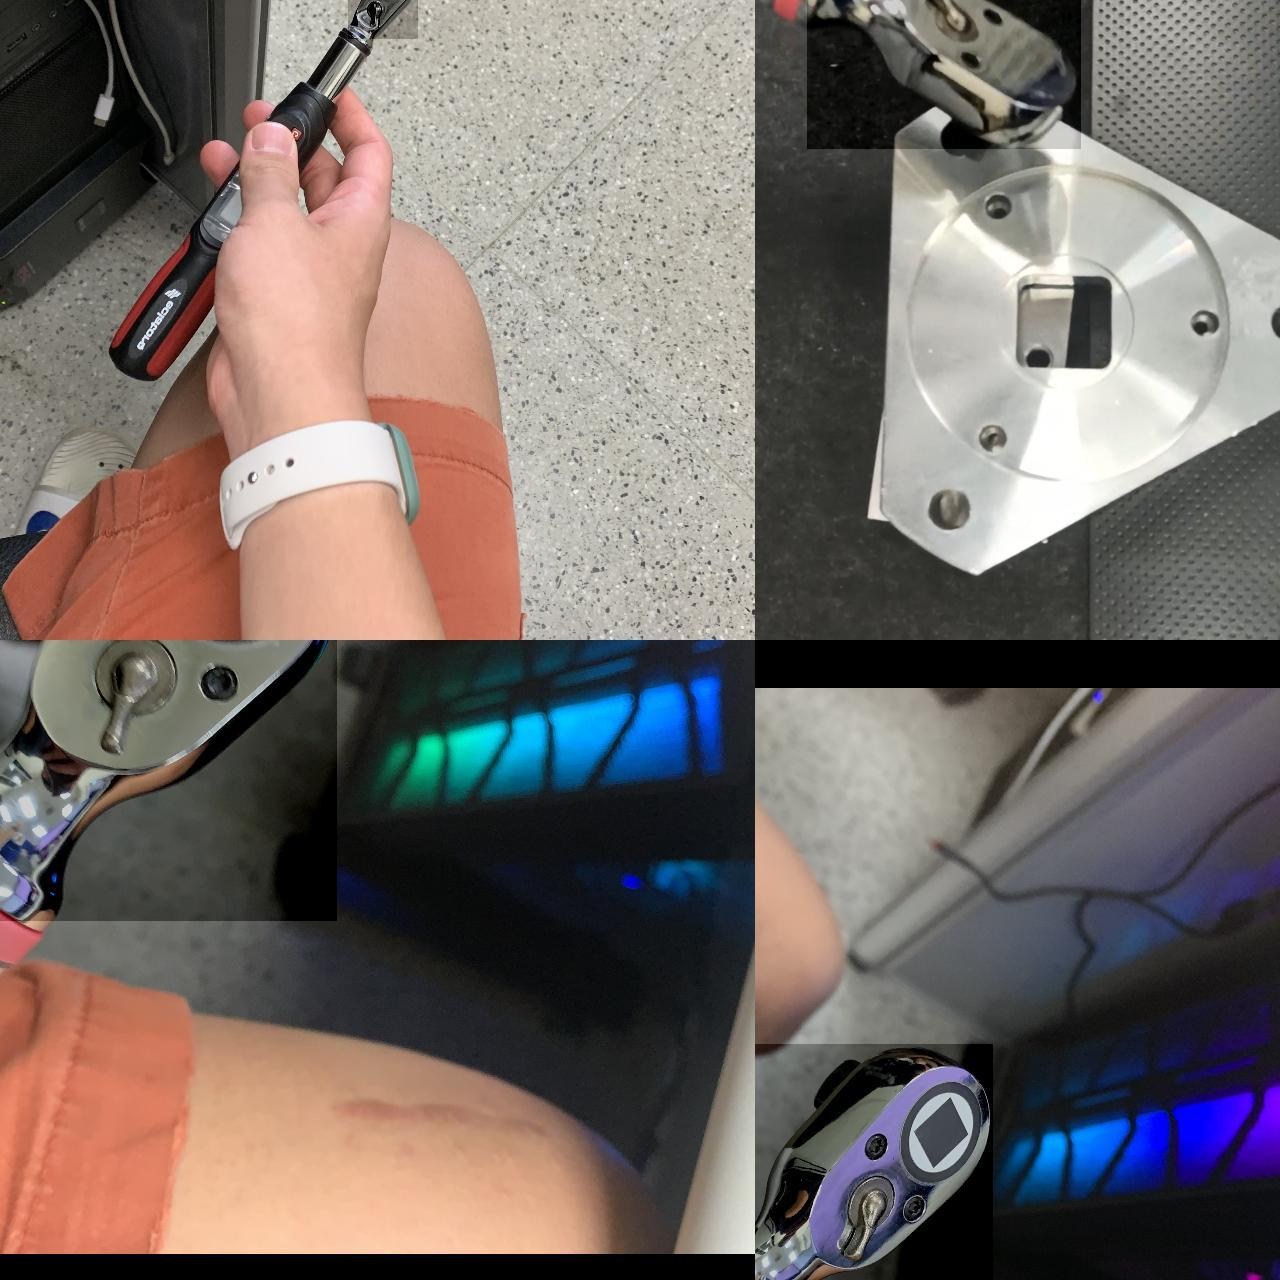Tool: (0, 640, 338, 920), (755, 1043, 993, 1280), (806, 0, 1081, 148), (348, 0, 418, 38)
hole: (933, 98, 979, 163), (926, 482, 975, 540), (1183, 304, 1226, 347), (978, 188, 1010, 229), (973, 420, 1005, 462)
